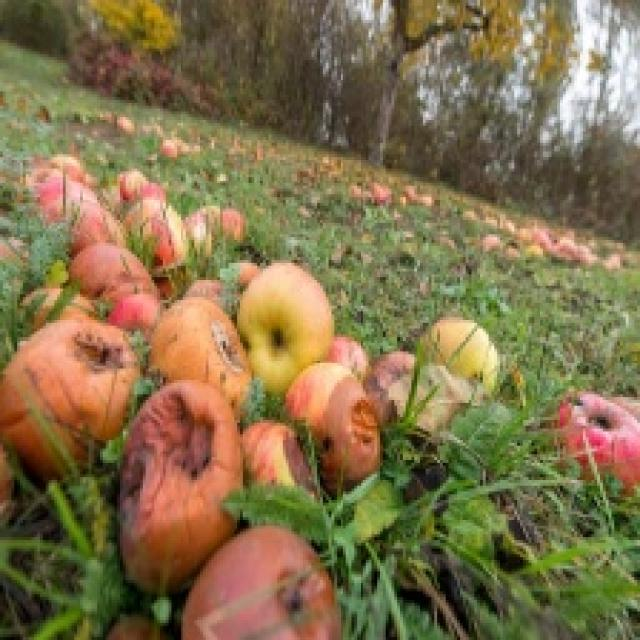rotten_apple: (132, 386, 242, 579), (5, 316, 134, 458), (185, 535, 329, 639), (307, 366, 380, 486), (155, 301, 248, 385), (242, 424, 311, 494)
